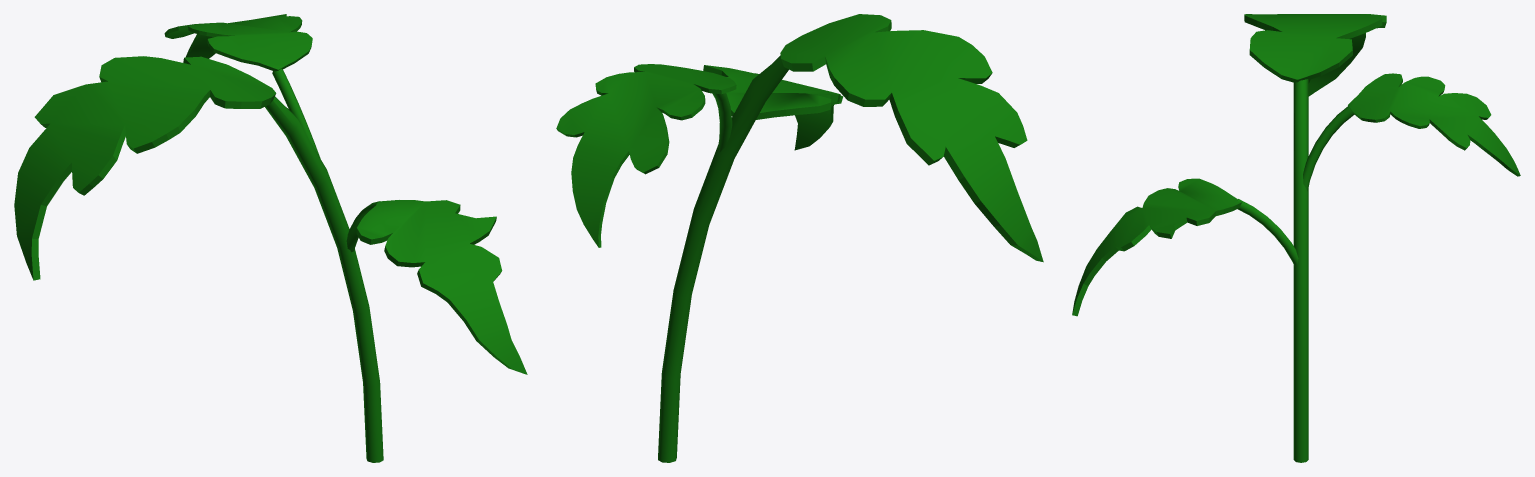
File: 番茄成長1.FBX
3 renders of one model, left to right at view 1: azimuth 30°, elevation 25°; view 2: azimuth 150°, elevation 25°; view 3: azimuth 270°, elevation 25°, orthographic. The views are drawn at different scales.
Parts seen in each view (by area): view 1: Line004, Line002, Cylinder001, Line003, Cylinder003; view 2: Line004, Line003, Cylinder001, Line002, Cylinder003; view 3: Line004, Line003, Cylinder001, Line002, Cylinder003, Cylinder002.
Boxes of the visible parts, <box> form: Line004: <box>14,56,276,280</box>; Line002: <box>356,200,527,374</box>; Cylinder001: <box>265,96,383,462</box>; Line003: <box>164,14,312,71</box>; Cylinder003: <box>272,68,320,158</box>; Line004: <box>780,14,1043,262</box>; Line003: <box>556,64,736,247</box>; Cylinder001: <box>658,55,788,462</box>; Line002: <box>703,65,843,150</box>; Cylinder003: <box>712,93,732,152</box>; Line004: <box>1244,14,1386,96</box>; Line003: <box>1348,73,1520,176</box>; Cylinder001: <box>1293,79,1308,462</box>; Line002: <box>1072,178,1242,316</box>; Cylinder003: <box>1303,106,1354,191</box>; Cylinder002: <box>1237,199,1298,266</box>.
Size of the model in its own units: 32.7 by 34.12 by 39.03.
